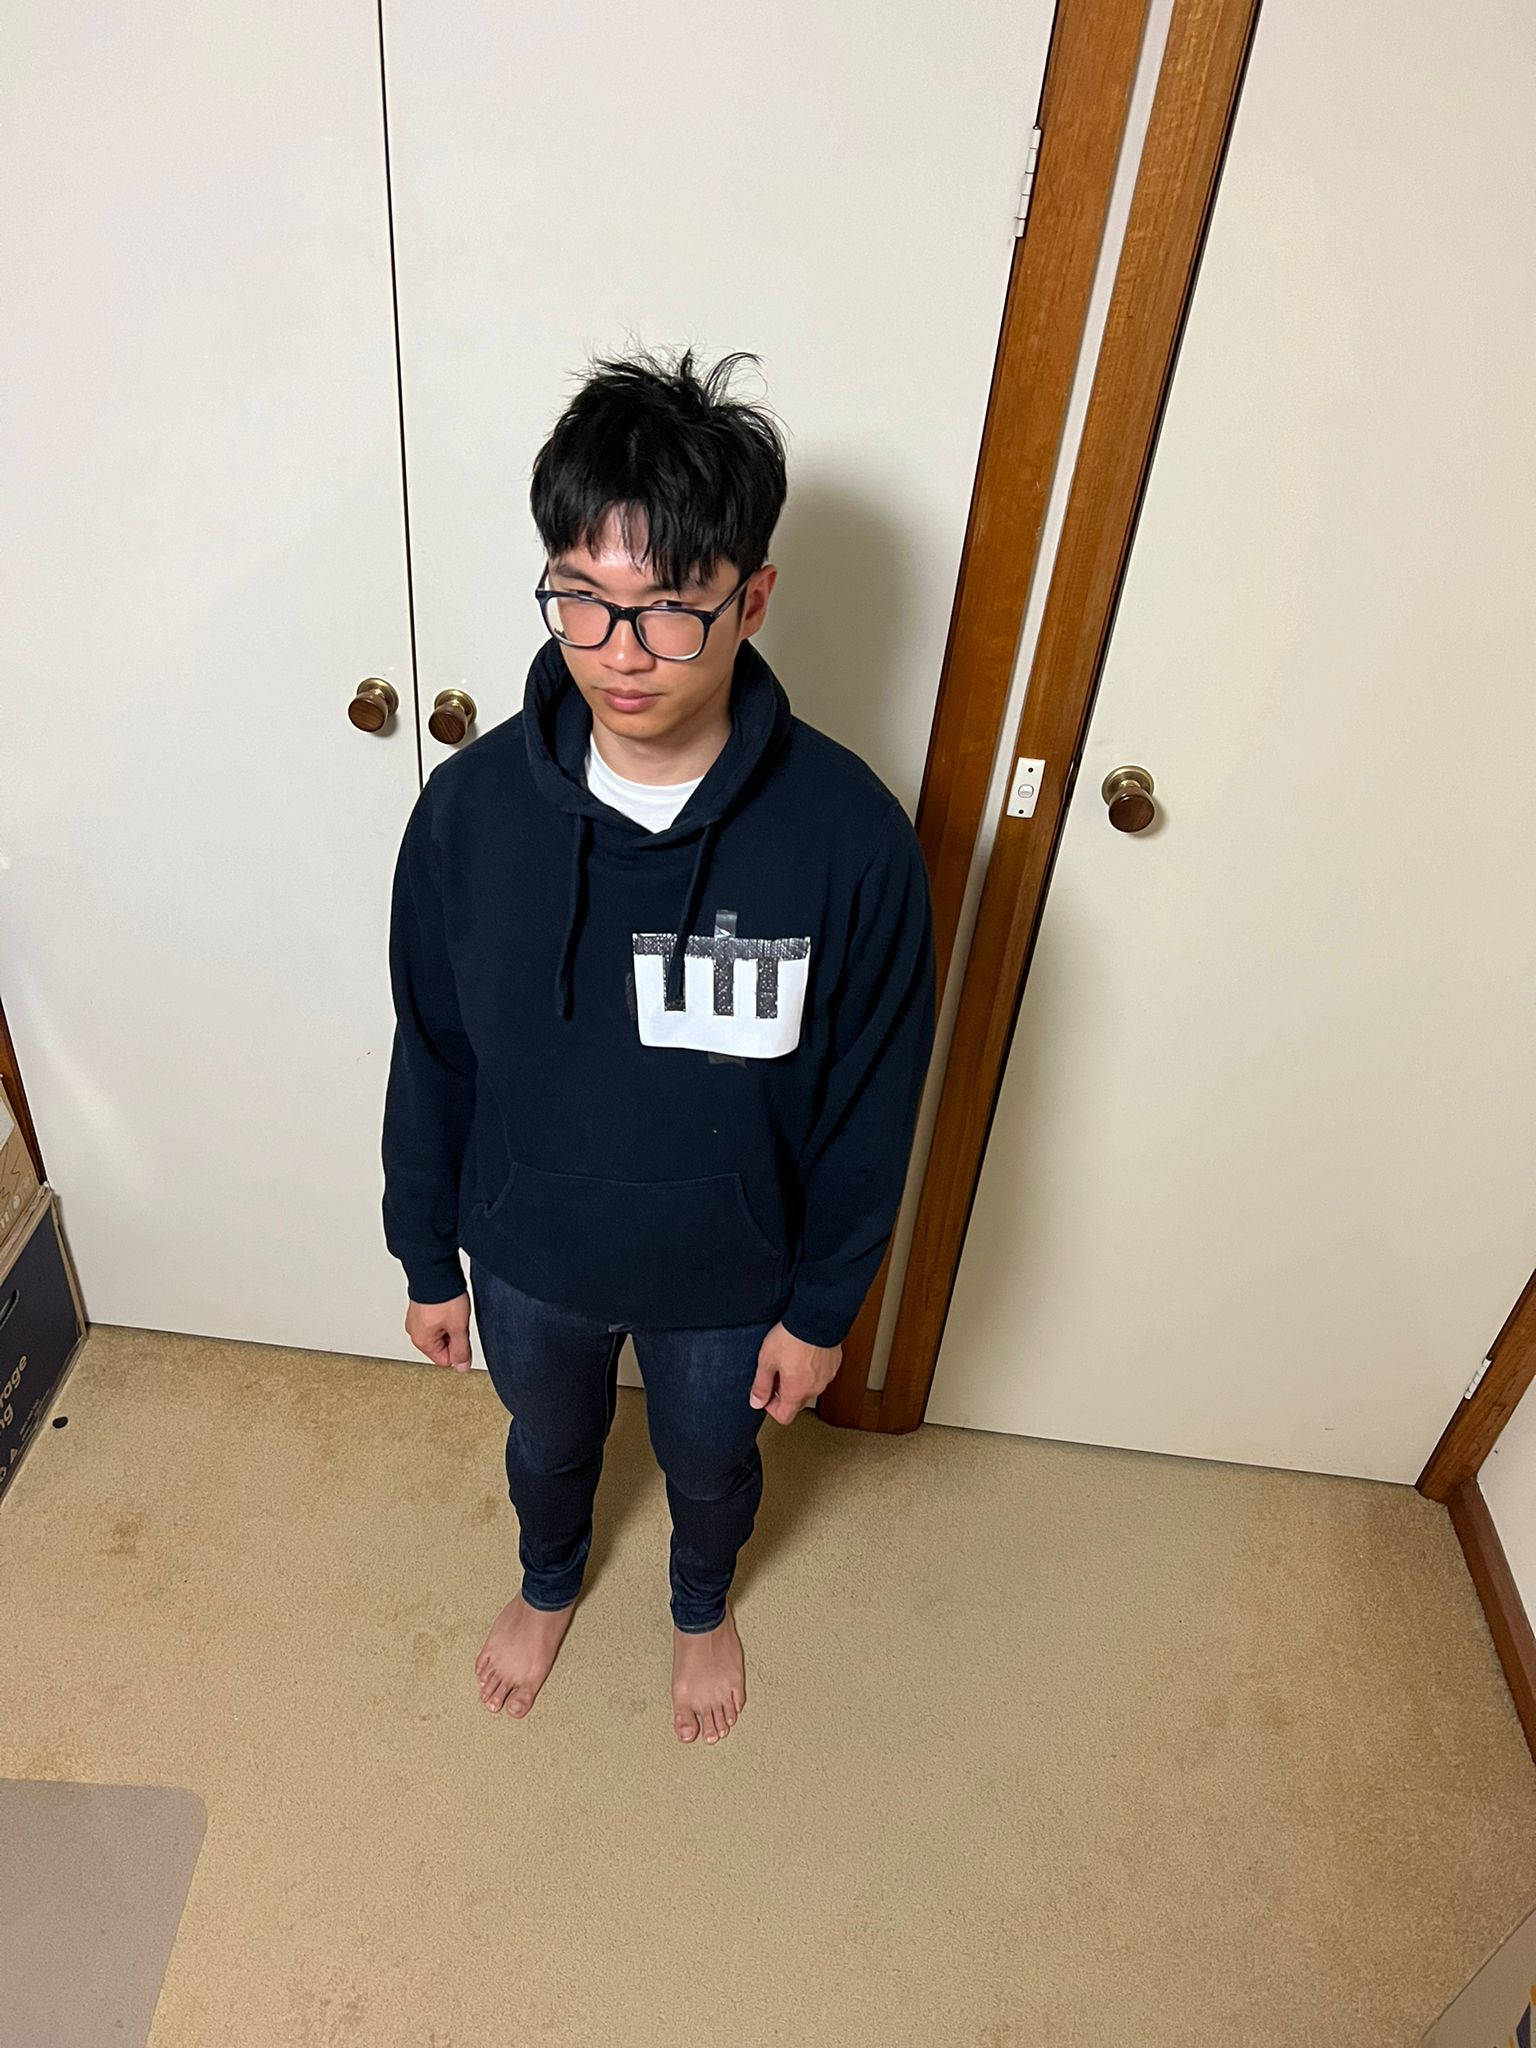Staff: (613, 910, 833, 1080)
